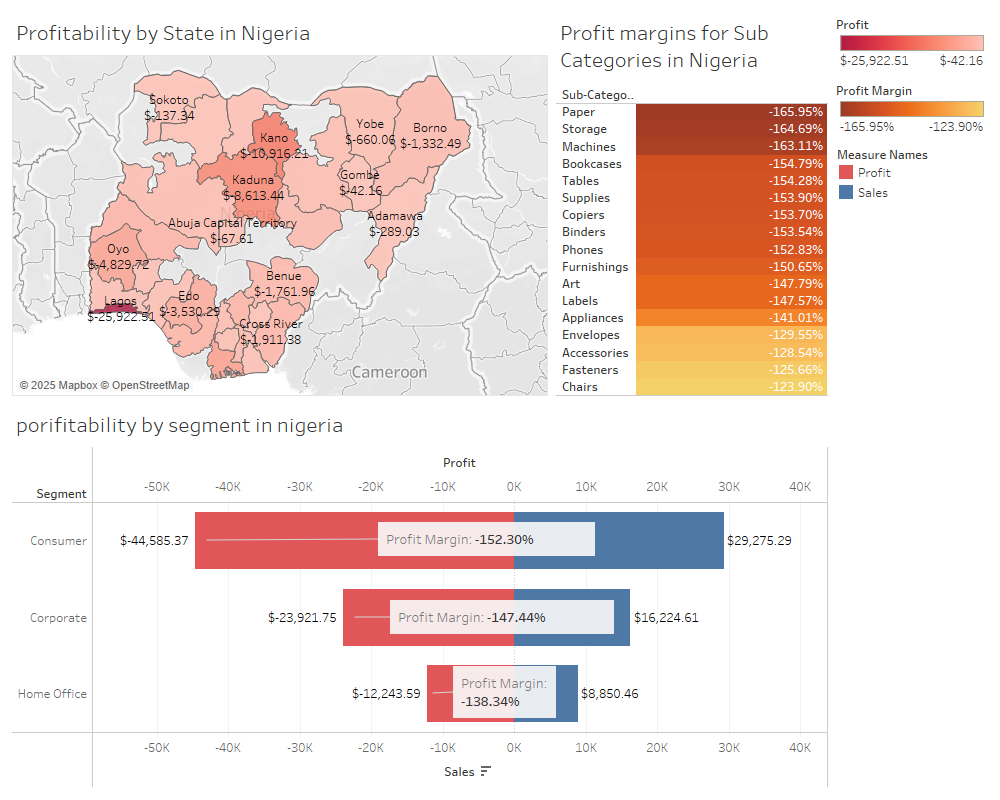

The dashboard page shown, as its layout file describes it:
{"tool":"tableau","page":{"name":"Profitability Overview in Nigeria","canvas":[1000,800],"ordinal":2},"visuals":[{"type":"worksheet","title":"Profitability by State in Nigeria","mark":"Multipolygon","box":[8,8,544,392]},{"type":"worksheet","title":"Profit margins for Sub Categories in Nigeria","mark":"Square","rows":["Sub-Category"],"box":[552,8,280,392]},{"type":"legend","title":"Profitability by State in Nigeria","param":"[federated.034txd11y80kzv1bq5ebt0nzog7h].[sum:Profit:qk]","box":[832,8,160,65]},{"type":"legend","title":"Profit margins for Sub Categories in Nigeria","param":"[federated.034txd11y80kzv1bq5ebt0nzog7h].[usr:Calculation_1105070804454400000:qk","box":[832,73,160,65]},{"type":"legend","title":"porifitability by segment in nigeria","param":"[federated.034txd11y80kzv1bq5ebt0nzog7h].[:Measure Names]","box":[832,138,160,66]},{"type":"worksheet","title":"porifitability by segment in nigeria","mark":"Bar","rows":["Segment"],"cols":["Sales","Profit"],"box":[8,400,824,392]}]}

Visuals, with their boxes in screenshot pixels (x1, y1, x2, y2), scaled from the page's 1000x800 canvas onto the 1000x800 screenshot:
"Profitability by State in Nigeria" worksheet (Multipolygon marks): Rect(8, 8, 552, 400)
"Profit margins for Sub Categories in Nigeria" worksheet (Square marks): Rect(552, 8, 832, 400)
"Profitability by State in Nigeria" legend: Rect(832, 8, 992, 73)
"Profit margins for Sub Categories in Nigeria" legend: Rect(832, 73, 992, 138)
"porifitability by segment in nigeria" legend: Rect(832, 138, 992, 204)
"porifitability by segment in nigeria" worksheet (Bar marks): Rect(8, 400, 832, 792)
